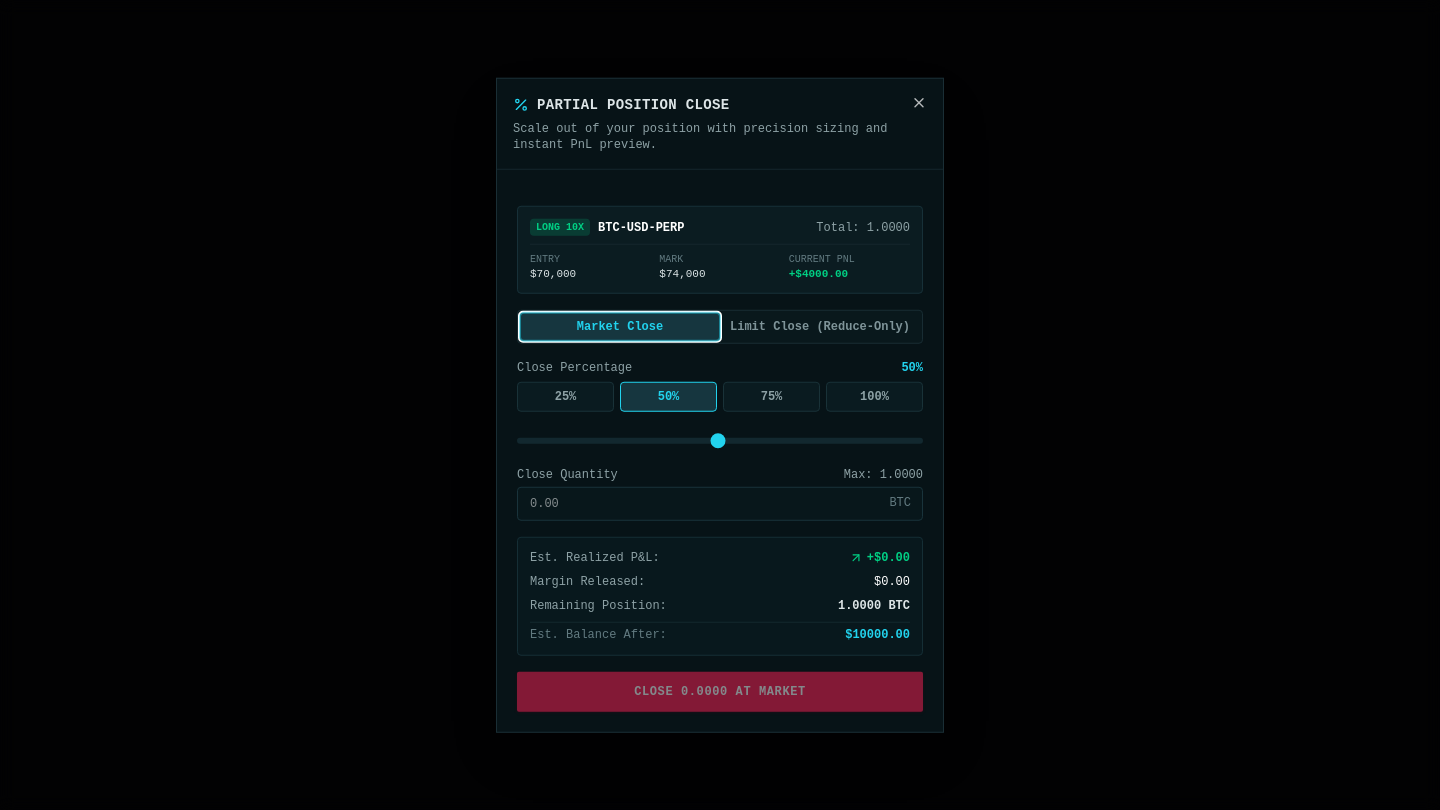
Test: PartialCloseModal › switches to limit close mode and shows limit price input
Click the button "Limit Close (Reduce-Only)": (820, 327) [720,313,920,341]
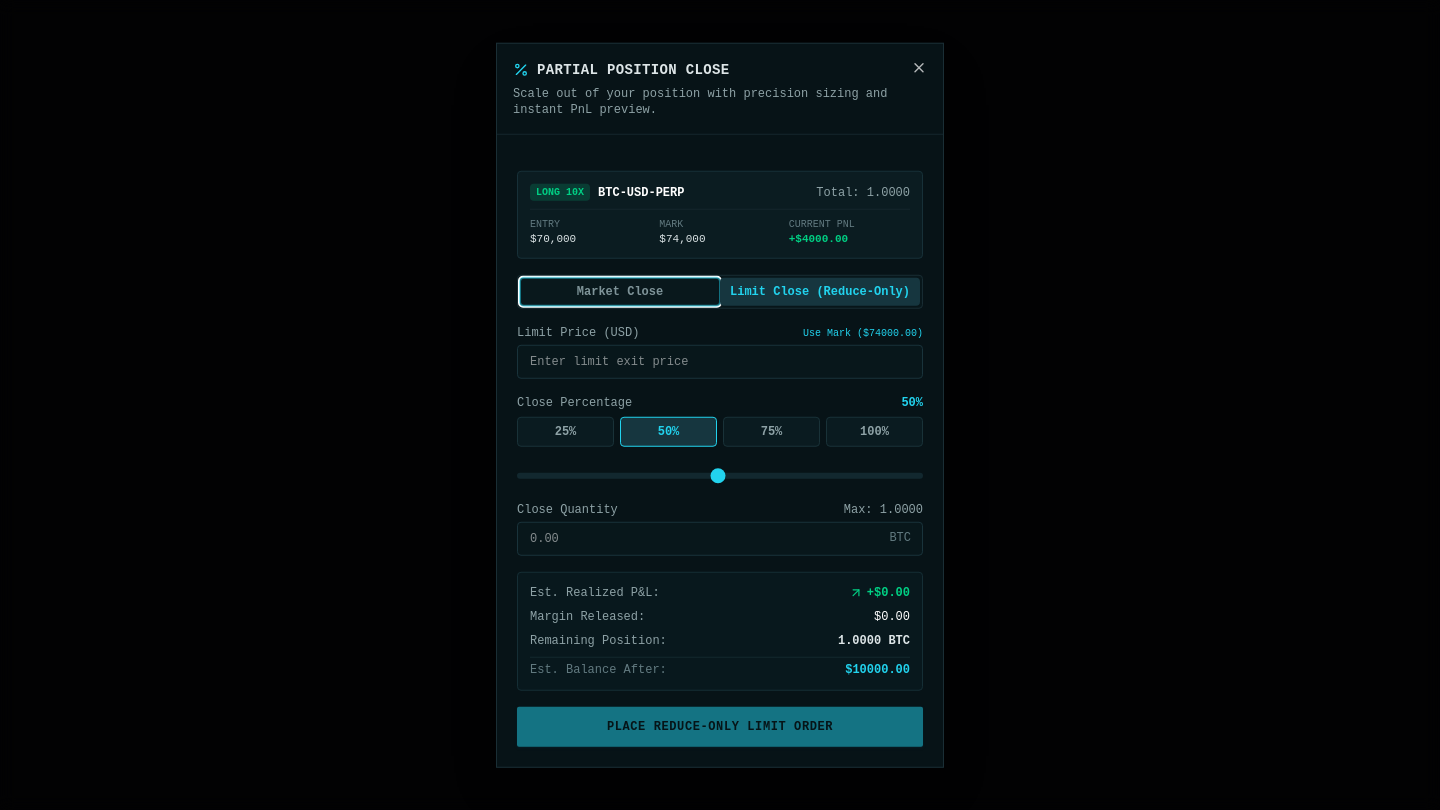
Expected: the number field with placeholder "Enter limit exit price" is shown, [517,345,923,379]
